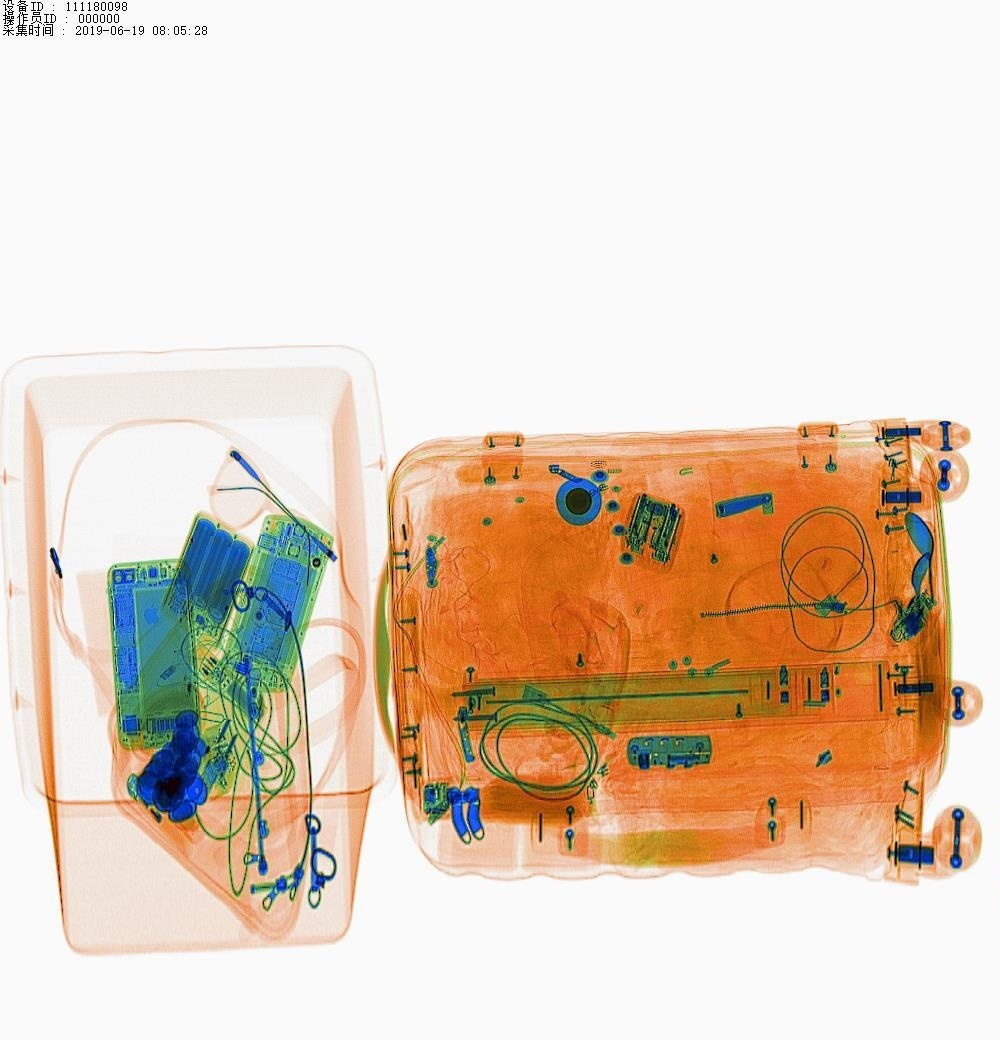NonmetallicFire: (117, 759, 202, 854)
